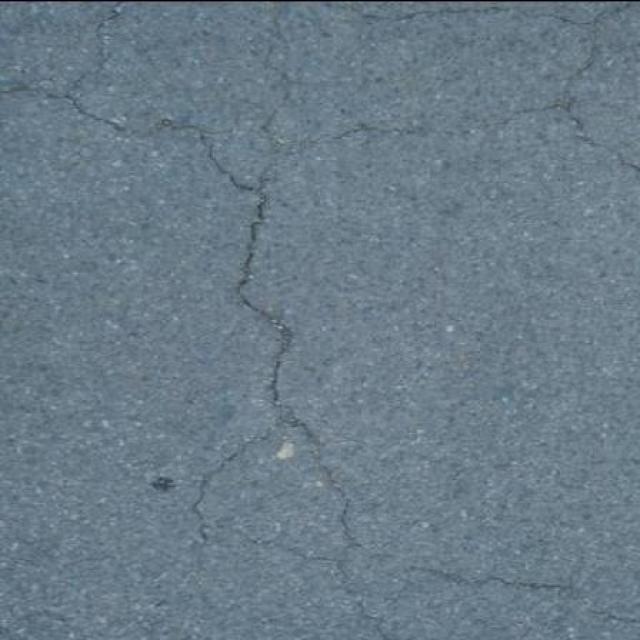Crack: (280, 0, 637, 168), (190, 421, 393, 637), (0, 0, 277, 158), (335, 485, 638, 624), (238, 189, 326, 469), (191, 439, 266, 542), (256, 18, 293, 130), (200, 133, 266, 192)
